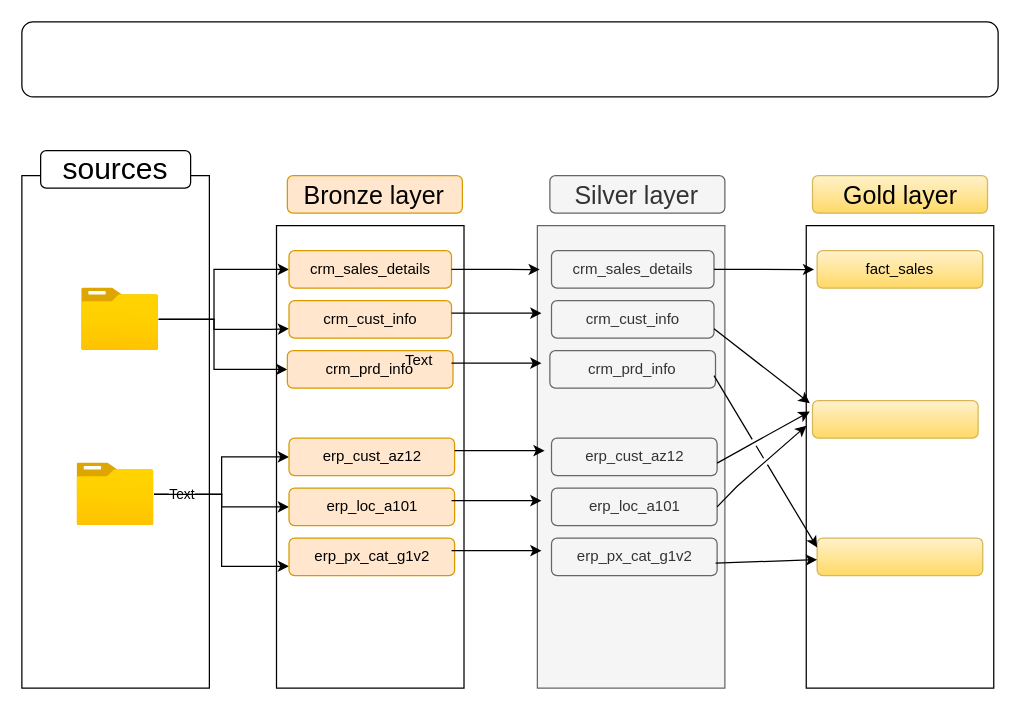
Some shapes in this 1020 by 710 pixel diagram are drawn without their labels. Here are the shapes that lost their labels. From the top down, the centre of each, then its label:
At (x=509, y=59): "Data Flow (data lineage)".
At (x=119, y=319): "CRM".
At (x=894, y=418): "dm_customers".
At (x=115, y=493): "ERP".
At (x=899, y=556): "dm_products".
